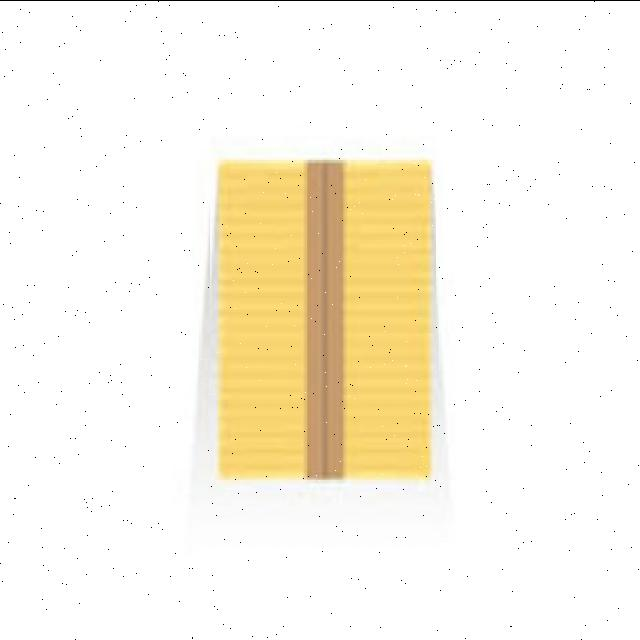normal: (210, 157, 436, 491)
